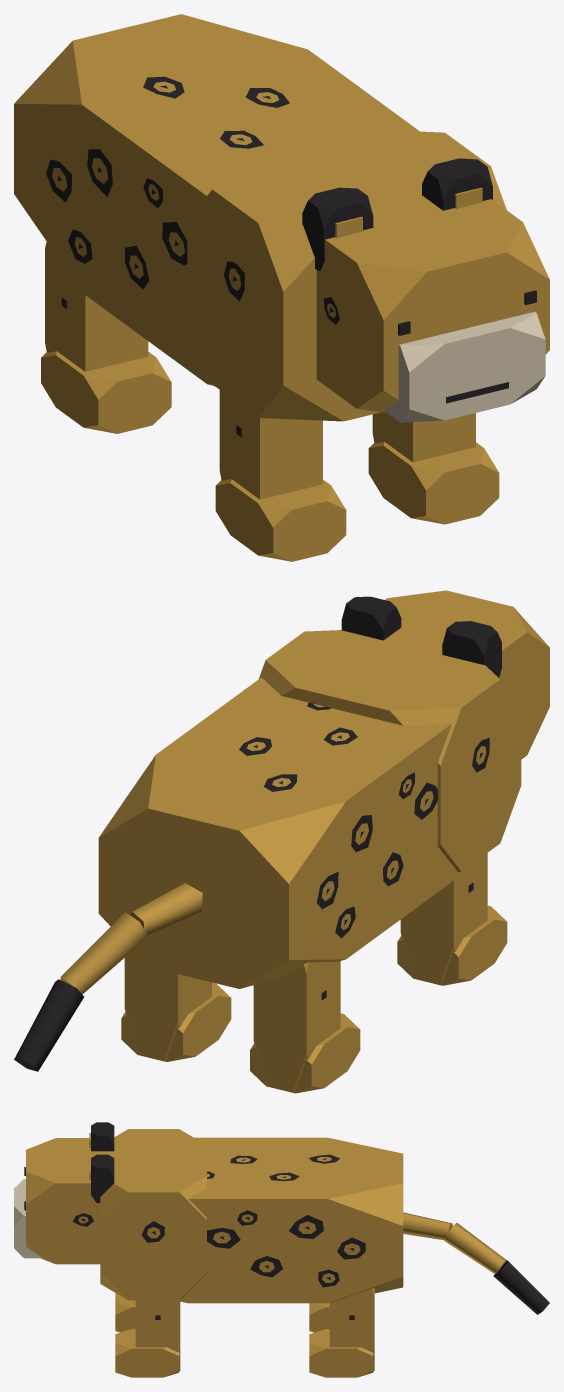
File: original-jaguar.glb
3 renders of one model, top to bottom at view 1: azimuth 30°, elevation 25°; view 2: azimuth 150°, elevation 25°; view 3: azimuth 270°, elevation 25°, orthographic. The views are drawn at different scales.
Visible parts, largest first — view 1: jaguar; view 2: jaguar; view 3: jaguar.
Boxes of the visible parts, x1,y1,x2,y2 form: jaguar: (14, 14, 549, 561); jaguar: (14, 590, 549, 1093); jaguar: (14, 1122, 549, 1377).
Bounding box in the file's own units: 0.702 × 1.05 × 2.51.
